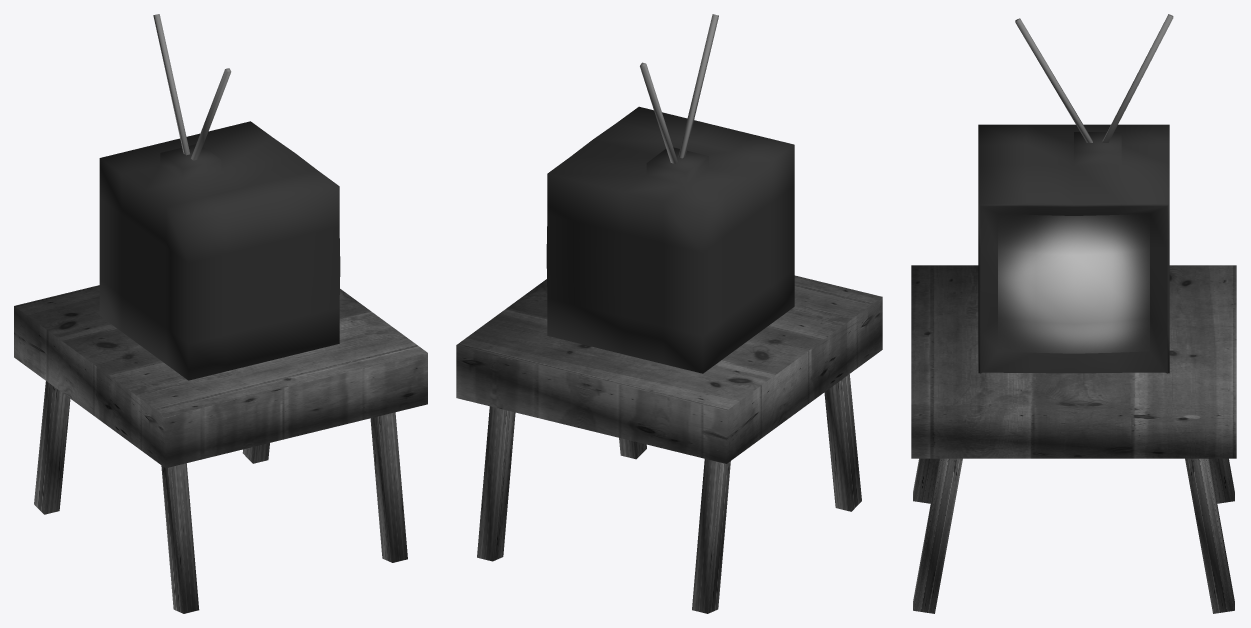
3 views of the same model, side by side, from view 1: azimuth 30°, elevation 25°; view 2: azimuth 150°, elevation 25°; view 3: azimuth 270°, elevation 25° (orthographic). The views are drawn at different scales.
Parts seen in each view (by area): view 1: table; view 2: table; view 3: table.
Boxes of the visible parts, <box> form: table: <box>14,14,427,613</box>; table: <box>456,14,882,613</box>; table: <box>911,14,1236,613</box>.
Bounding box in the file's own units: 155 × 278 × 155.
